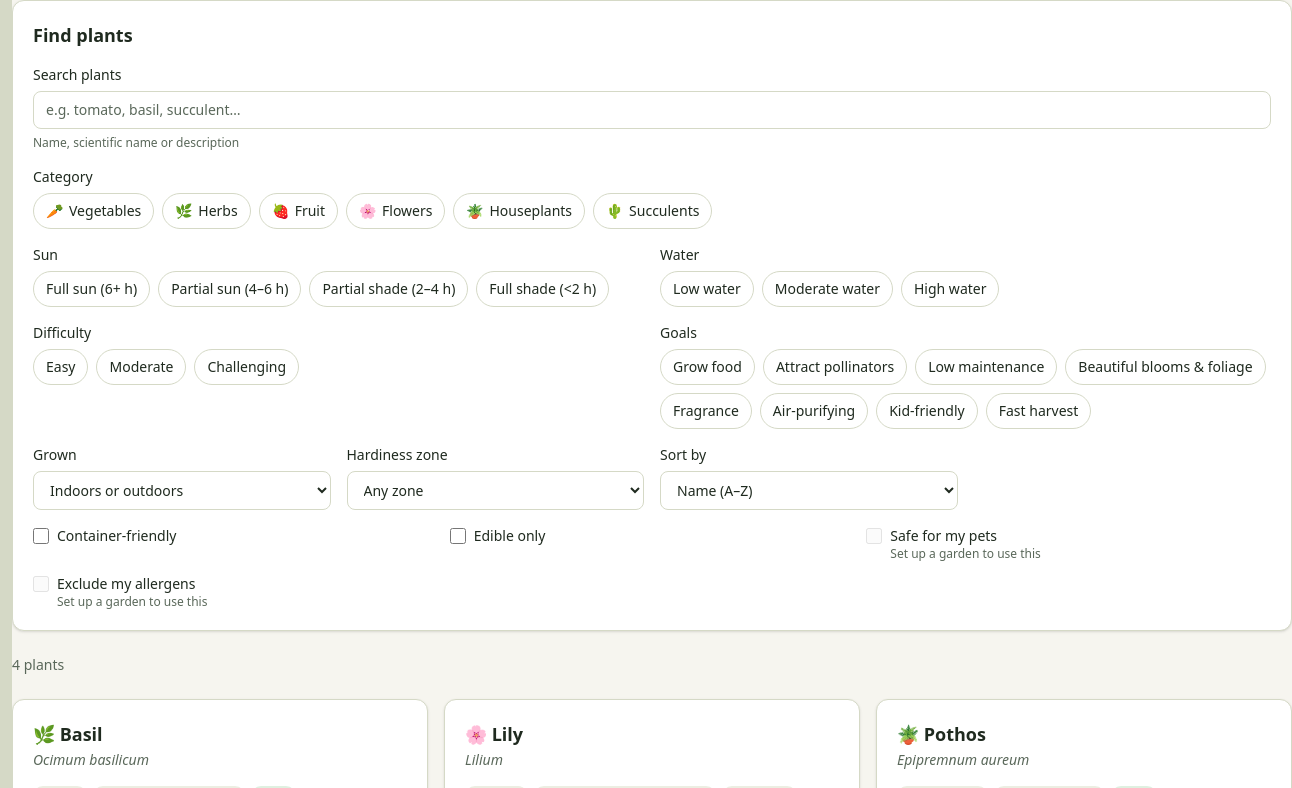
Test case: PlantLibrary › filters by category chip and clears all filters
Click the button "🌿 Herbs": (206, 211) [162,193,251,229]
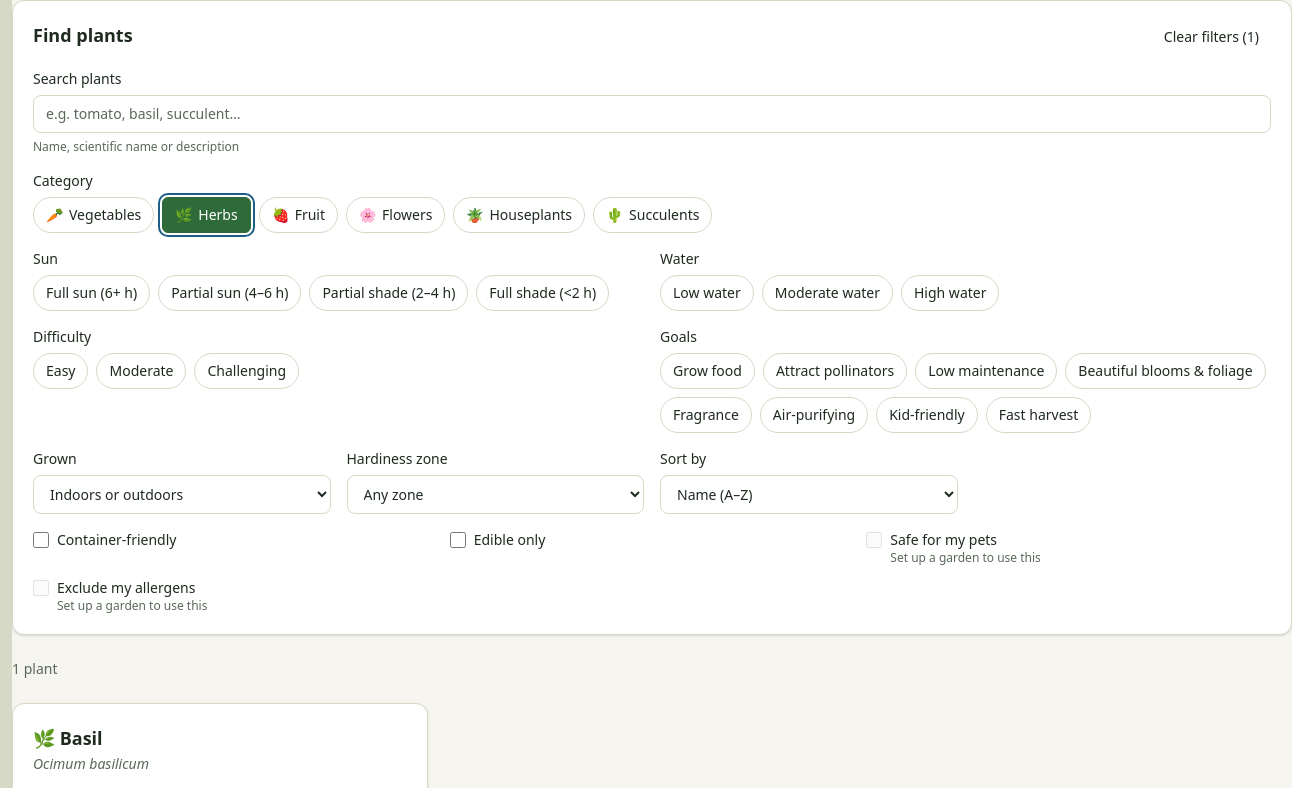
Click the button "Clear filters (1)": (1211, 37) [1152,21,1271,53]
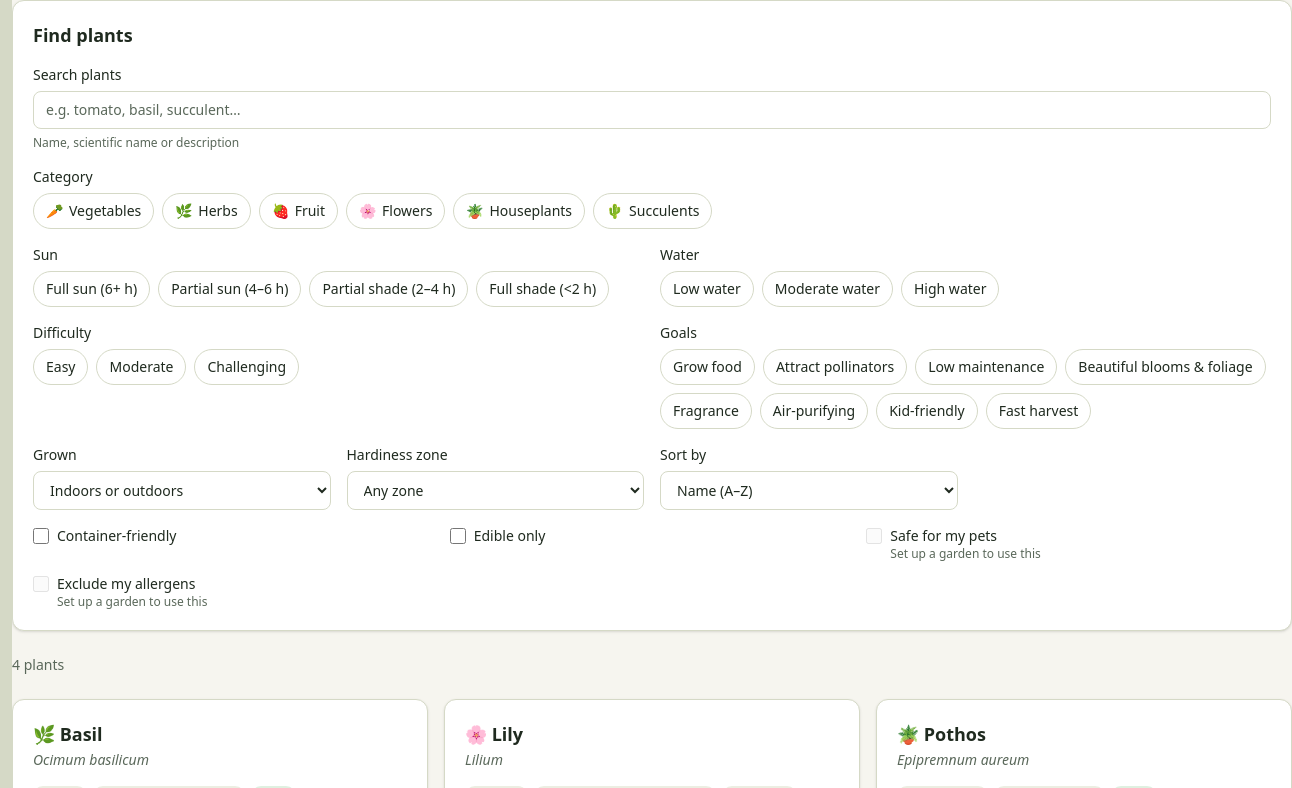
Now the button "Clear filters" is gone
